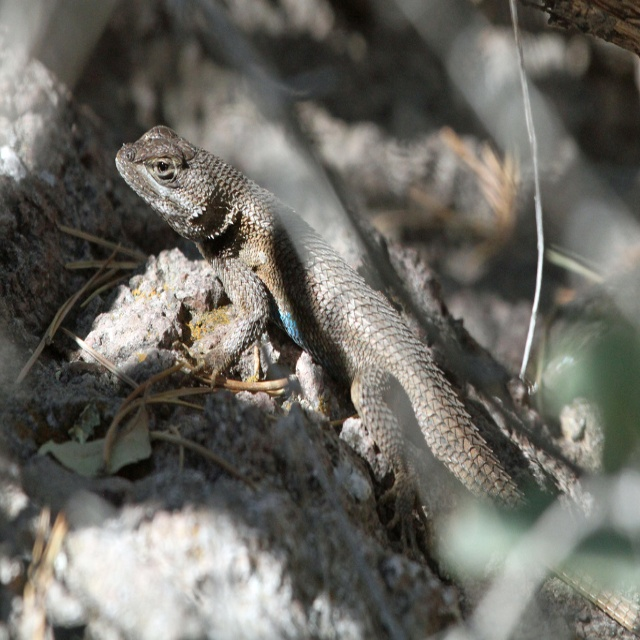Lizard: (114, 126, 638, 632)
